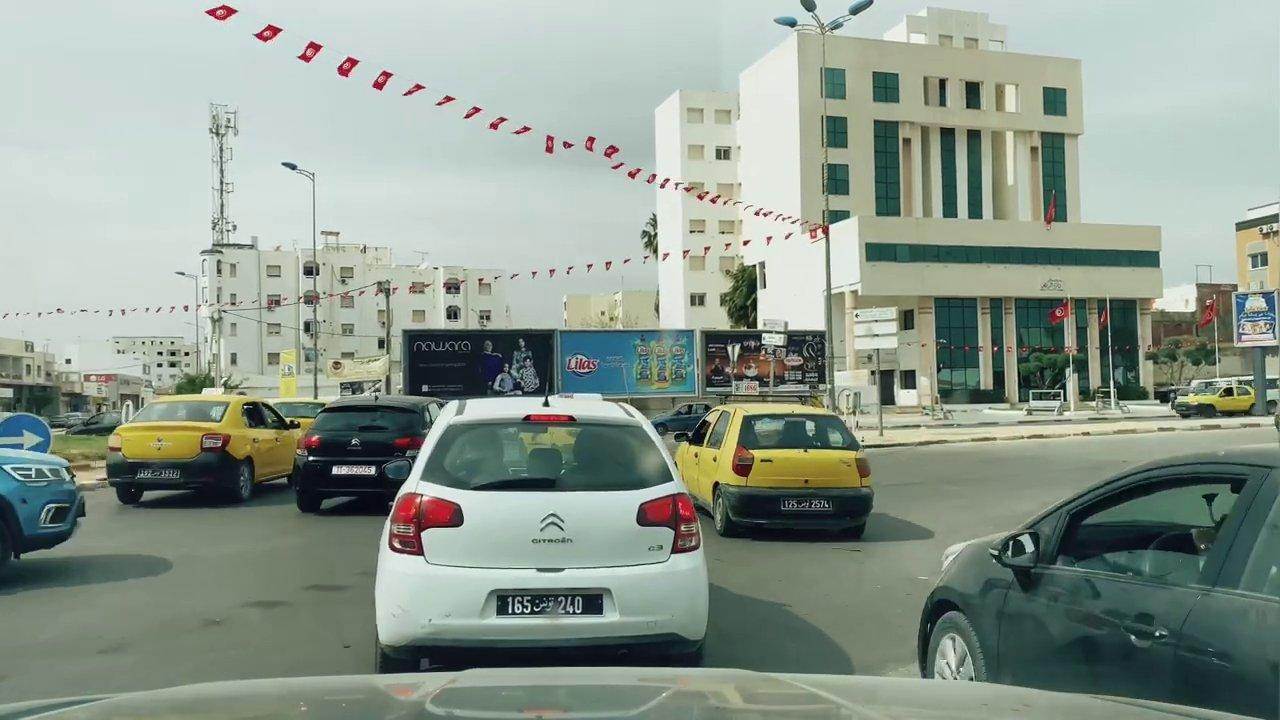turn right: (0, 412, 53, 455)
